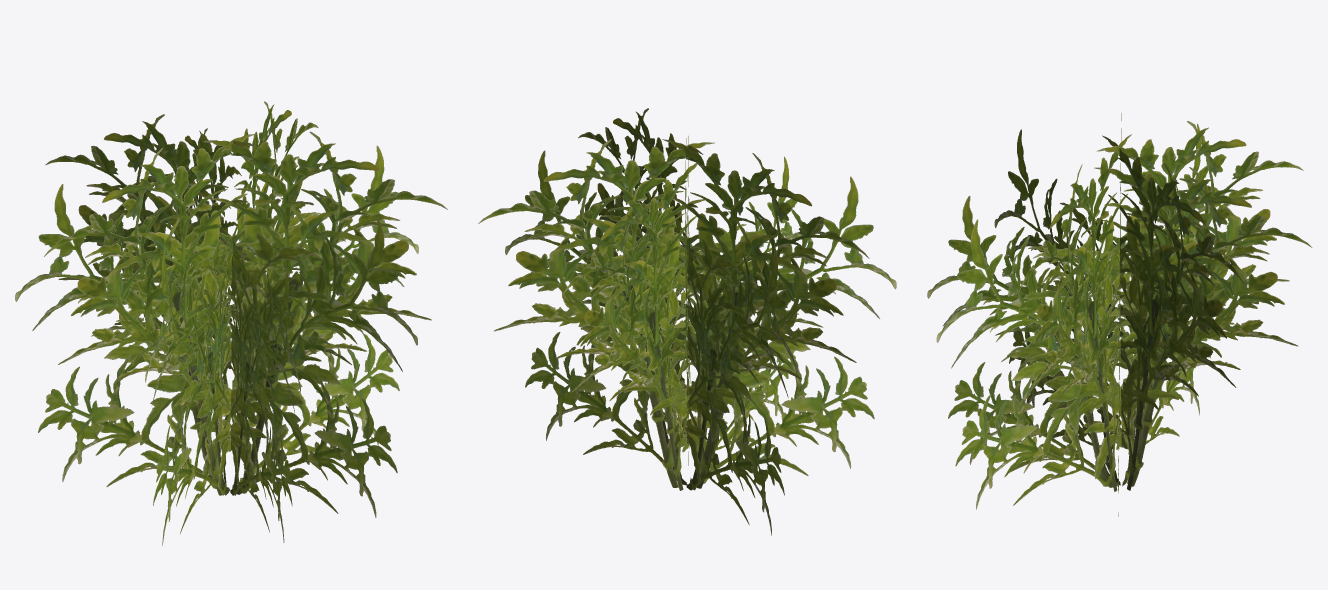
The model's file is SeaPlant_01.dae.
3 renders of one model, left to right at view 1: azimuth 30°, elevation 25°; view 2: azimuth 150°, elevation 25°; view 3: azimuth 270°, elevation 25°, orthographic. The views are drawn at different scales.
Visible parts, largest first — view 1: SeaPlantOne256, SeaPlantOne128; view 2: SeaPlantOne256, SeaPlantOne128; view 3: SeaPlantOne256, SeaPlantOne128.
Part boxes in pixels (<box>): SeaPlantOne256: <box>15,114,447,545</box>; SeaPlantOne128: <box>32,101,416,537</box>; SeaPlantOne256: <box>478,109,874,532</box>; SeaPlantOne128: <box>478,108,896,535</box>; SeaPlantOne256: <box>927,113,1303,509</box>; SeaPlantOne128: <box>927,124,1312,516</box>.
Size of the model in its own units: 138 by 126 by 138.
